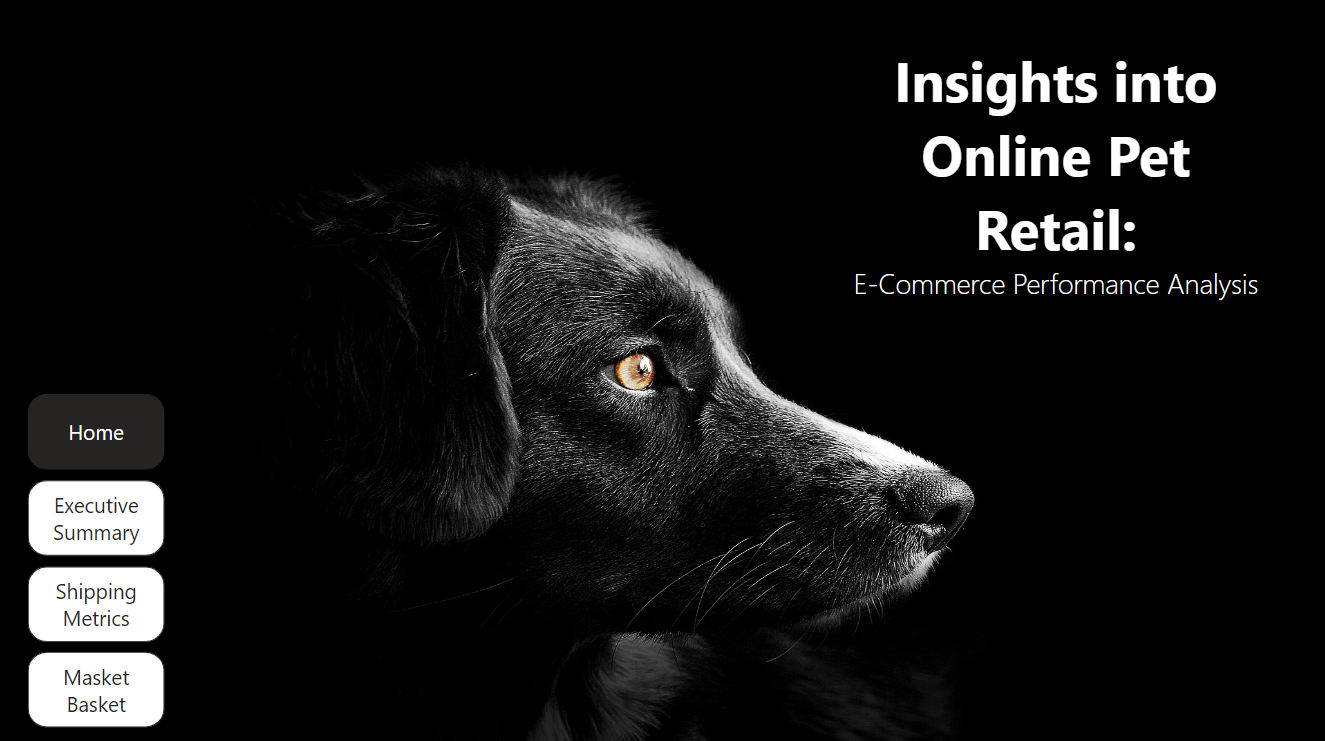

This screenshot's page, from the dashboard's own definition file:
{"tool":"powerbi","page":{"name":"Home","canvas":[1280,720],"ordinal":4},"visuals":[{"type":"pageNavigator","box":[27.7,381.2,132.7,323.3],"z":0},{"type":"textbox","box":[810.7,37.4,418.6,307.6],"z":1000}]}

Visuals, with their boxes in screenshot pixels (x1, y1, x2, y2), scaled from the page's 1280x720 canvas onto the 1325x741 screenshot:
pageNavigator: region(29, 392, 166, 725)
textbox: region(839, 38, 1273, 355)
